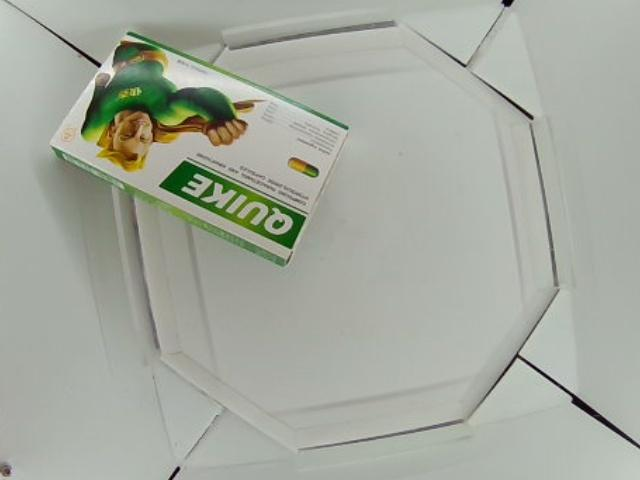Medicine: (49, 27, 348, 269)
